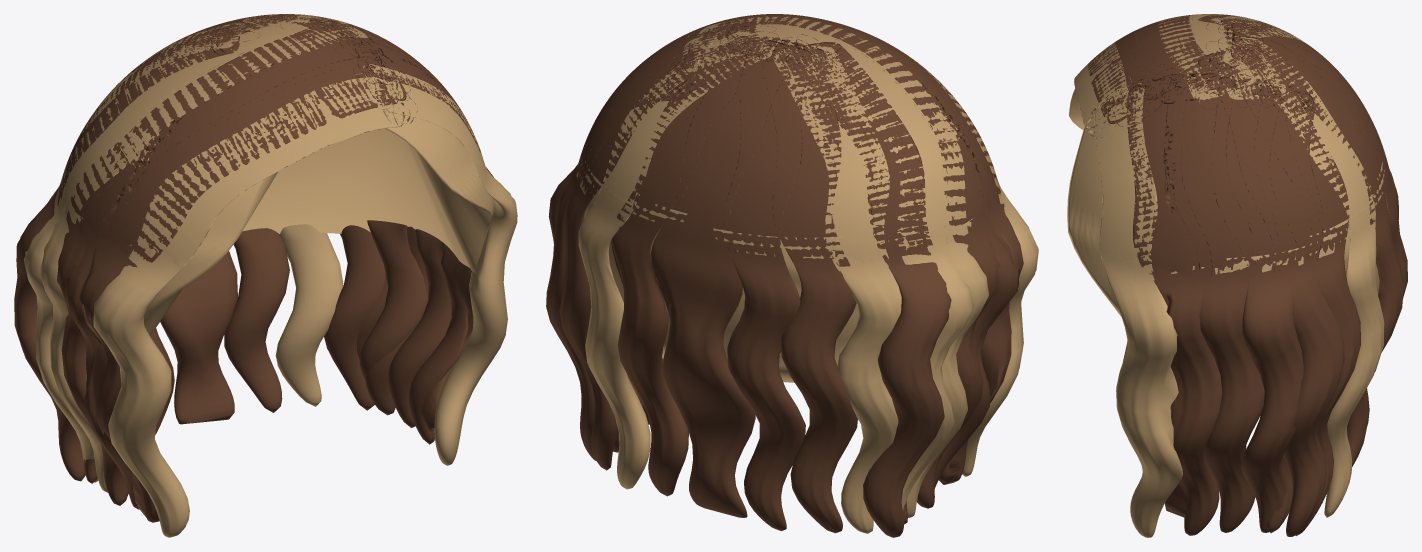
File: Highlights-f8f808efe737251-hair.glb
The picture shows the model from 3 angles, left to right: view 1: azimuth 30°, elevation 25°; view 2: azimuth 150°, elevation 25°; view 3: azimuth 270°, elevation 25°; orthographic projection. The views are drawn at different scales.
Visible parts, largest first — view 1: 226 hair / Hair / sculpted 0.002, 226 hair / Hair / sculpted 1.004, 226 hair / Hair / sculpted 2.002, 226 hair / Hair / sculpted 1.003; view 2: 226 hair / Hair / sculpted 2.002, 226 hair / Hair / sculpted 0.002, 226 hair / Hair / sculpted 1.004, 226 hair / Hair / sculpted 1.003; view 3: 226 hair / Hair / sculpted 1.004, 226 hair / Hair / sculpted 2.002, 226 hair / Hair / sculpted 0.002, 226 hair / Hair / sculpted 1.003.
Boxes of the visible parts, x1,y1,x2,y2 form: 226 hair / Hair / sculpted 0.002: [14, 14, 451, 537]; 226 hair / Hair / sculpted 1.004: [40, 14, 517, 522]; 226 hair / Hair / sculpted 2.002: [24, 14, 493, 509]; 226 hair / Hair / sculpted 1.003: [61, 117, 494, 335]; 226 hair / Hair / sculpted 2.002: [546, 14, 1019, 533]; 226 hair / Hair / sculpted 0.002: [578, 14, 1038, 537]; 226 hair / Hair / sculpted 1.004: [548, 14, 1023, 533]; 226 hair / Hair / sculpted 1.003: [576, 109, 999, 382]; 226 hair / Hair / sculpted 1.004: [1087, 14, 1403, 537]; 226 hair / Hair / sculpted 2.002: [1104, 14, 1407, 536]; 226 hair / Hair / sculpted 0.002: [1074, 14, 1393, 532]; 226 hair / Hair / sculpted 1.003: [1067, 88, 1388, 316].
Bounding box in the file's own units: 1.09 × 1.08 × 0.7673.
